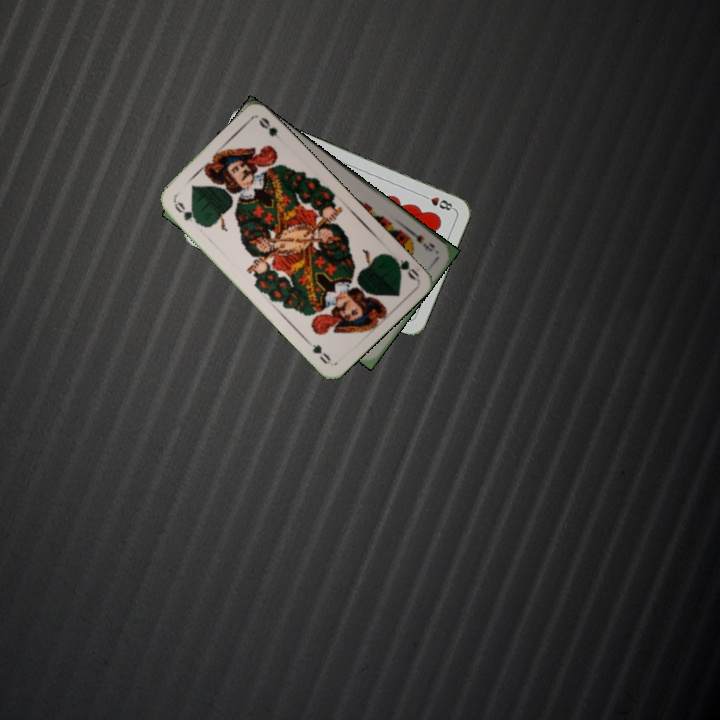GO: (385, 251, 422, 283), (170, 196, 203, 227)
H8: (418, 191, 456, 213)
S9: (404, 225, 438, 254)
